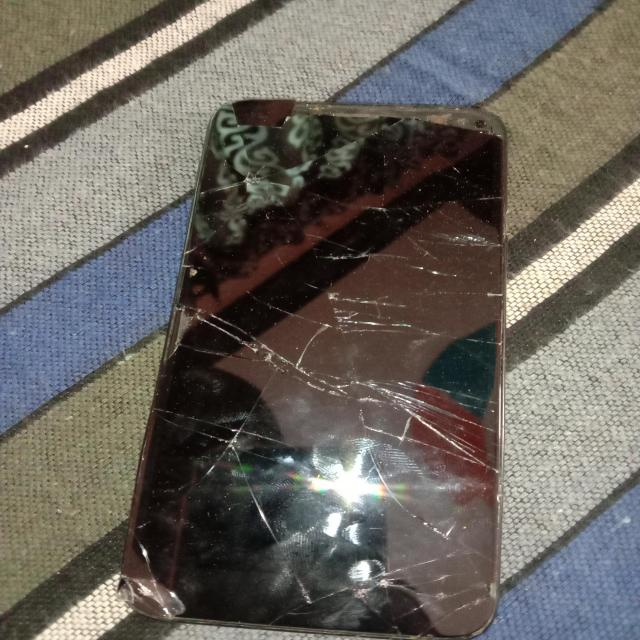mobile-phone: (127, 44, 551, 640)
